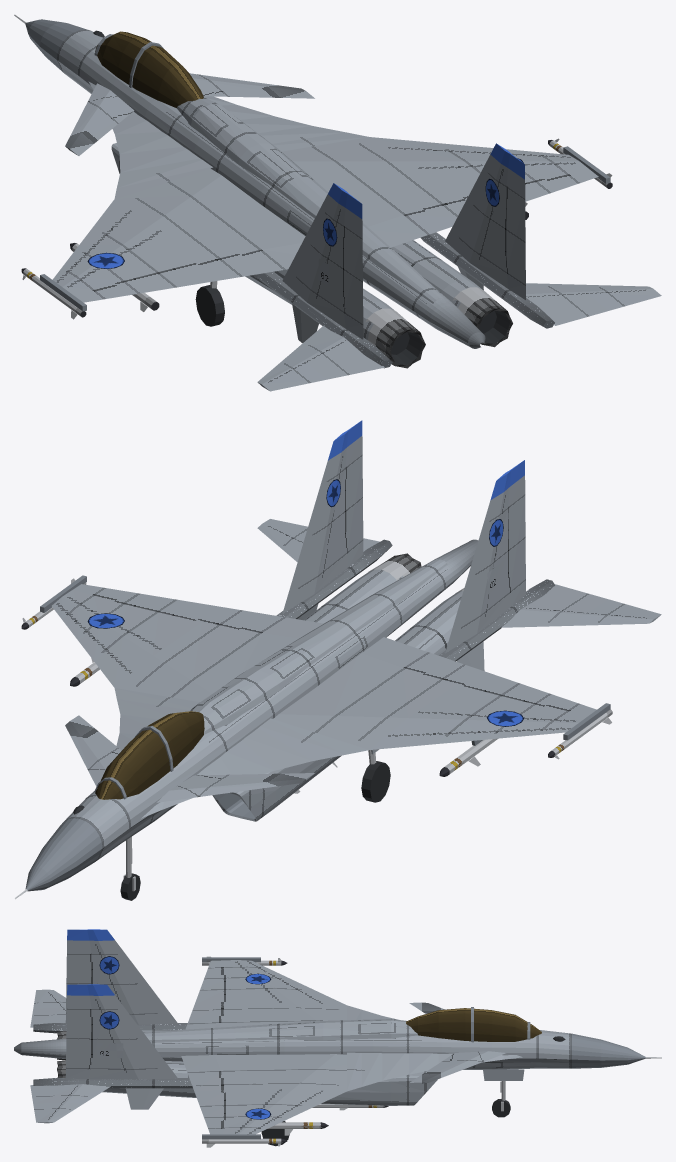
3 views of the same model, one above another, from view 1: azimuth 30°, elevation 25°; view 2: azimuth 150°, elevation 25°; view 3: azimuth 270°, elevation 25° (orthographic). The views are drawn at different scales.
Parts seen in each view (by area): view 1: airframe, canopy, stab_l, stab_r, flap_l, canard_l, canard_r, rudder_r, rudder_l, flap_r, aileron_l, gear_main_l (+1 smaller); view 2: airframe, canopy, stab_l, canard_l, flap_l, flap_r, canard_r, rudder_l, rudder_r, stab_r, gear_main_l, aileron_l (+2 smaller); view 3: airframe, canopy, stab_r, rudder_r, canard_r, flap_r, stab_l, flap_l, rudder_l, aileron_r, aileron_l, msl_1 (+3 smaller).
Boxes of the visible parts, <box> form: airframe: <box>14,14,610,368</box>; canopy: <box>94,31,203,107</box>; stab_l: <box>257,326,384,391</box>; stab_r: <box>526,283,661,325</box>; flap_l: <box>159,249,286,287</box>; canard_l: <box>65,83,134,155</box>; canard_r: <box>189,73,314,98</box>; rudder_r: <box>506,187,525,284</box>; rudder_l: <box>344,226,363,324</box>; flap_r: <box>403,197,467,234</box>; aileron_l: <box>94,272,177,298</box>; gear_main_l: <box>195,281,224,326</box>; airframe: <box>15,420,610,898</box>; canopy: <box>94,711,204,799</box>; stab_l: <box>501,584,661,627</box>; canard_l: <box>156,773,314,802</box>; flap_l: <box>403,652,517,695</box>; flap_r: <box>159,600,286,633</box>; canard_r: <box>65,715,121,786</box>; rudder_l: <box>508,494,525,591</box>; rudder_r: <box>345,455,363,551</box>; stab_r: <box>257,519,379,562</box>; gear_main_l: <box>361,750,390,802</box>; aileron_l: <box>499,683,578,710</box>; airframe: <box>14,929,661,1139</box>; canopy: <box>406,1007,541,1042</box>; stab_r: <box>30,1084,110,1123</box>; rudder_r: <box>66,1009,91,1068</box>; canard_r: <box>409,1051,505,1083</box>; flap_r: <box>187,1070,225,1105</box>; stab_l: <box>30,989,66,1027</box>; flap_l: <box>187,990,225,1024</box>; rudder_l: <box>66,954,91,1012</box>; aileron_r: <box>200,1105,226,1128</box>; aileron_l: <box>199,968,226,990</box>; msl_1: <box>202,1138,287,1147</box>.
Size of the model in its own units: 14.57 by 5.95 by 21.9.
Materials: 6 (6 with a texture image).
